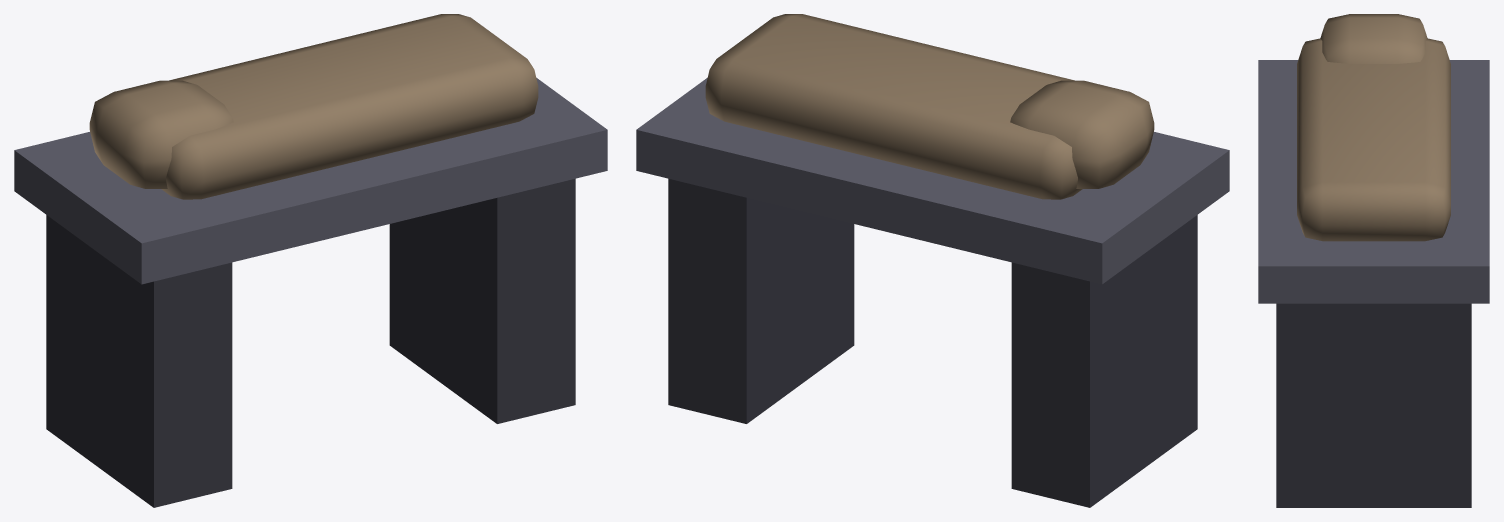
File: bier.glb
3 renders of one model, left to right at view 1: azimuth 30°, elevation 25°; view 2: azimuth 150°, elevation 25°; view 3: azimuth 270°, elevation 25°, orthographic. The views are drawn at different scales.
Parts seen in each view (by area): view 1: bier; view 2: bier; view 3: bier.
Part boxes in pixels (x1,y1,x2,y2): bier: (14, 14, 607, 507); bier: (636, 14, 1229, 507); bier: (1258, 14, 1489, 507).
Size of the model in its own units: 0.95 by 0.69 by 0.45.
